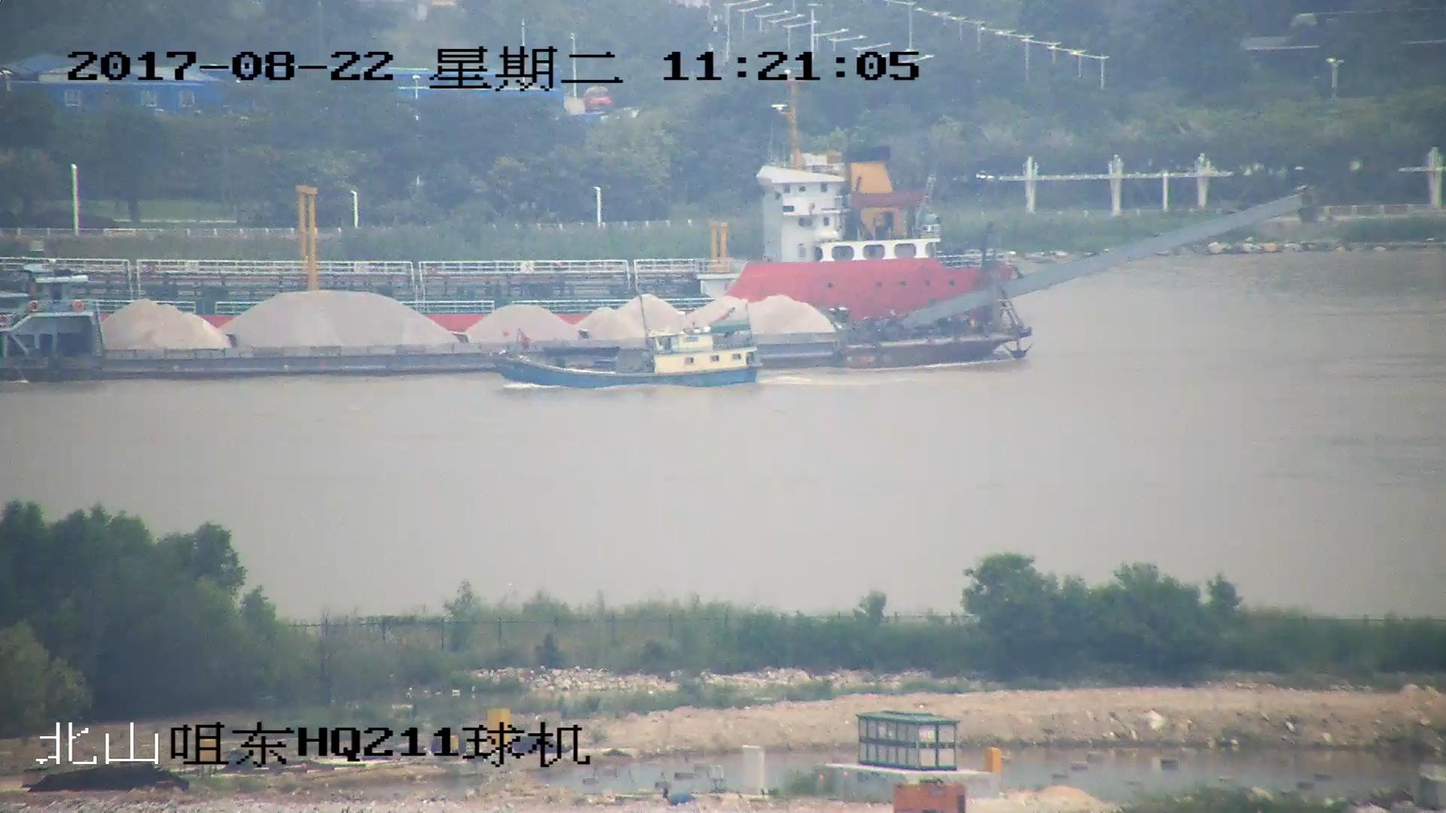fishing boat: (489, 324, 761, 391)
general cargo ship: (0, 84, 1011, 330)
ore carrier: (0, 192, 1308, 379)
